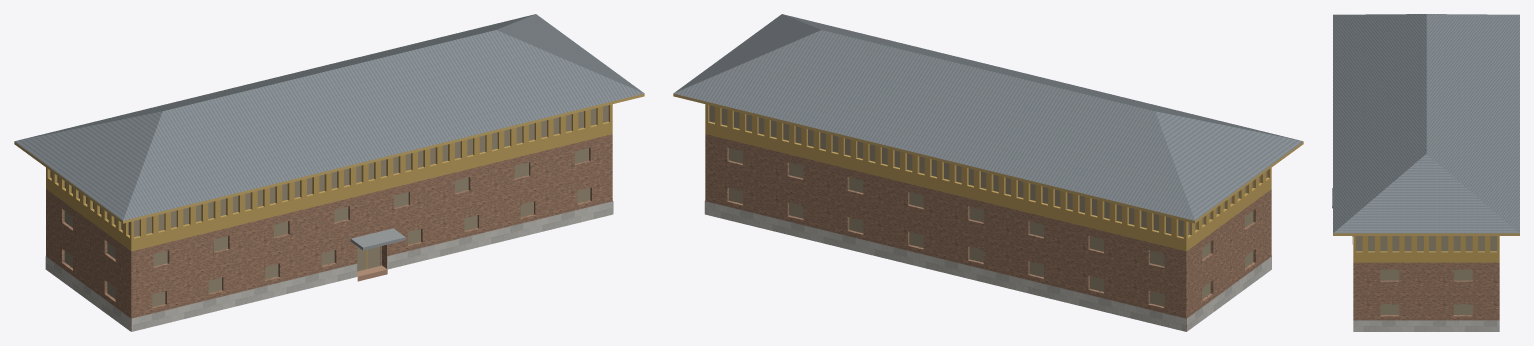
3 views of the same model, side by side, from view 1: azimuth 30°, elevation 25°; view 2: azimuth 150°, elevation 25°; view 3: azimuth 270°, elevation 25° (orthographic). The views are drawn at different scales.
Parts seen in each view (by area): view 1: b876428420__roofAccent, b876428420__wall, b876428420__wall2, b876428420__glass, b876428420__base, b876428420__trim, b876428420__canopy; view 2: b876428420__roofAccent, b876428420__wall, b876428420__wall2, b876428420__base, b876428420__glass, b876428420__trim; view 3: b876428420__roofAccent, b876428420__wall, b876428420__wall2, b876428420__glass, b876428420__base, b876428420__trim.
Part boxes in pixels (left/top/right/bottom): b876428420__roofAccent: left=14, top=14, right=644, bottom=220; b876428420__wall: left=46, top=134, right=612, bottom=331; b876428420__wall2: left=46, top=104, right=612, bottom=251; b876428420__glass: left=50, top=105, right=608, bottom=306; b876428420__base: left=45, top=201, right=613, bottom=331; b876428420__trim: left=14, top=93, right=644, bottom=223; b876428420__canopy: left=350, top=228, right=405, bottom=250; b876428420__roofAccent: left=673, top=14, right=1302, bottom=220; b876428420__wall: left=705, top=134, right=1271, bottom=331; b876428420__wall2: left=705, top=104, right=1271, bottom=251; b876428420__base: left=704, top=201, right=1271, bottom=331; b876428420__glass: left=709, top=105, right=1267, bottom=306; b876428420__trim: left=673, top=93, right=1303, bottom=223; b876428420__roofAccent: left=1333, top=14, right=1519, bottom=233; b876428420__wall: left=1353, top=262, right=1499, bottom=320; b876428420__wall2: left=1353, top=236, right=1499, bottom=262; b876428420__glass: left=1356, top=236, right=1496, bottom=315; b876428420__base: left=1352, top=236, right=1499, bottom=331; b876428420__trim: left=1333, top=233, right=1519, bottom=235.
Bounding box in the file's own units: 48.95 × 15.75 × 17.76.
Materials: 12 (3 with a texture image).
